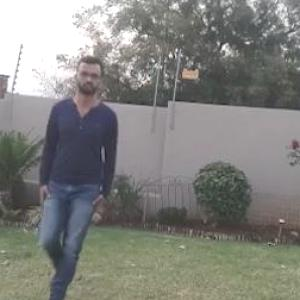follow: (52, 41, 154, 298)
